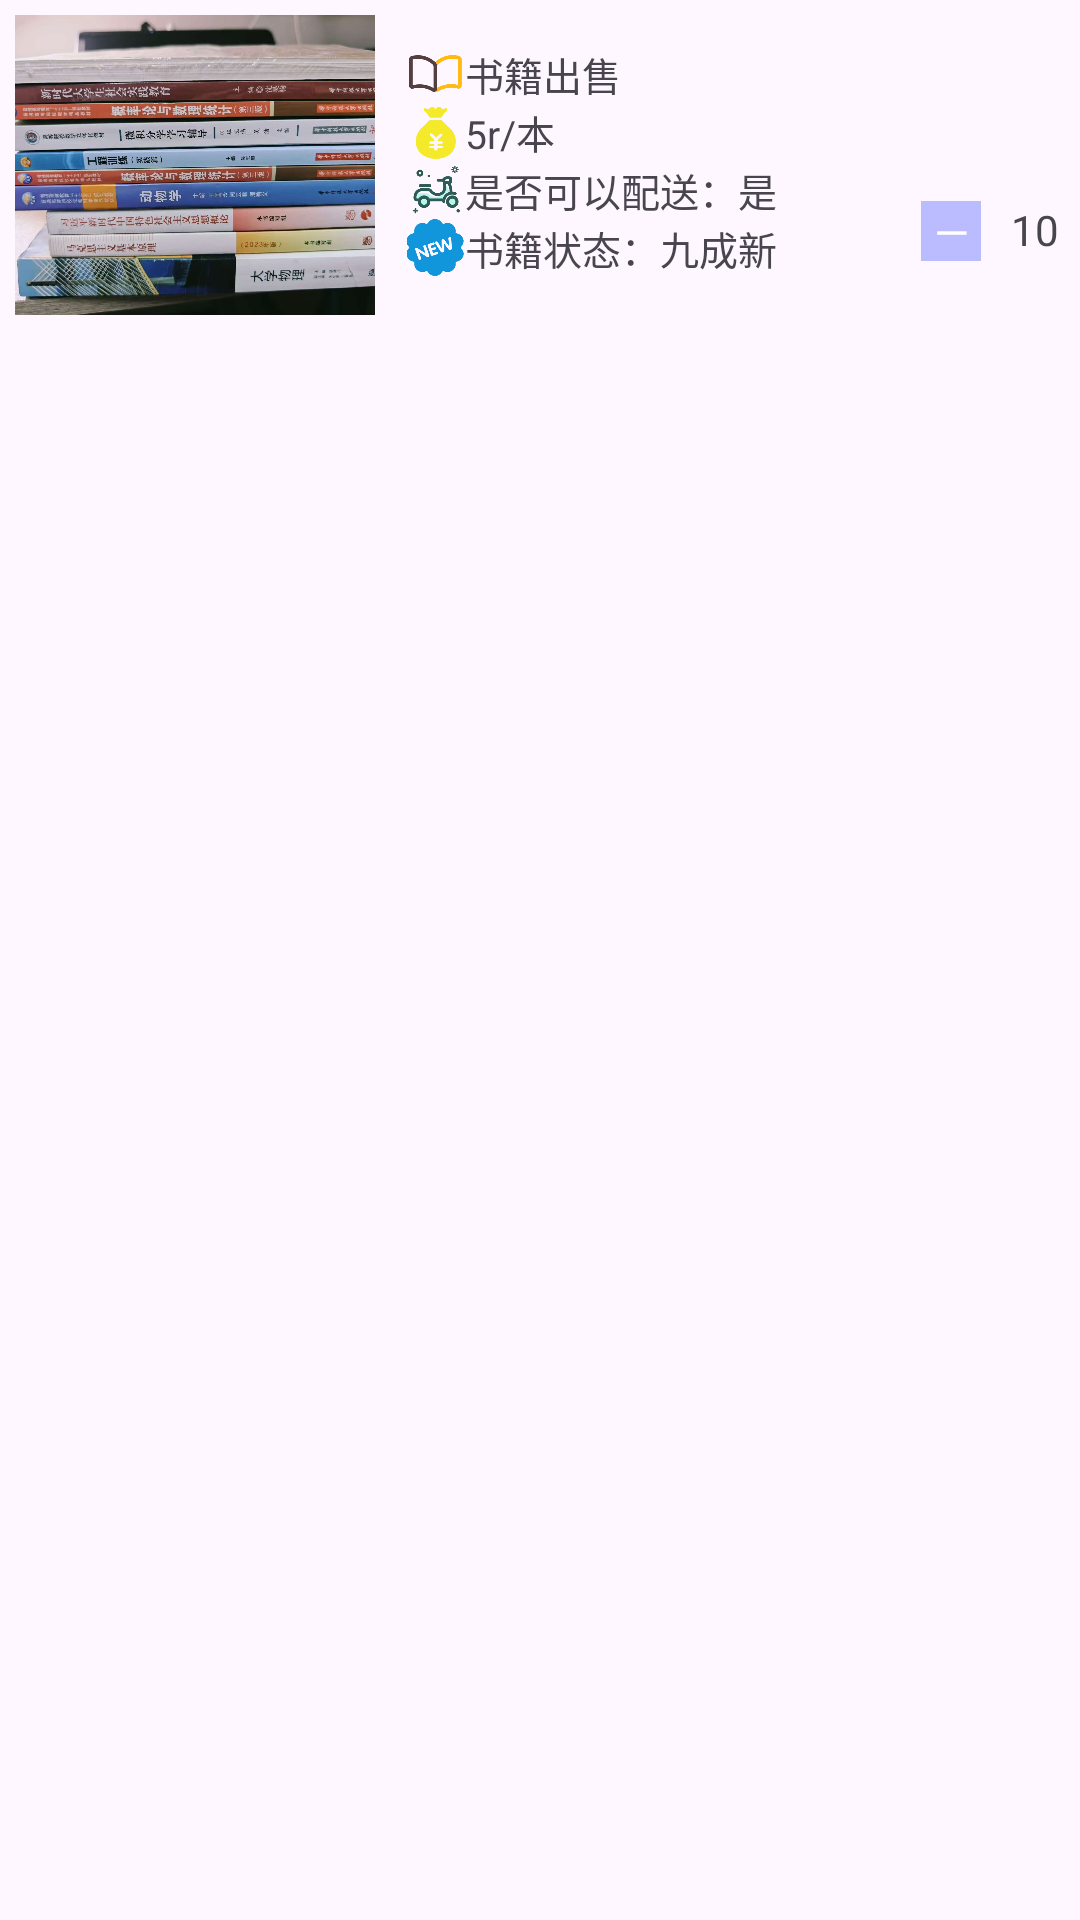

Named icons in this screenshot (1080px x 1920px) and their bounding boxes, Rect(x1, y1, x2, y2):
delivery: Rect(413, 166, 460, 214)
money: Rect(416, 107, 456, 159)
